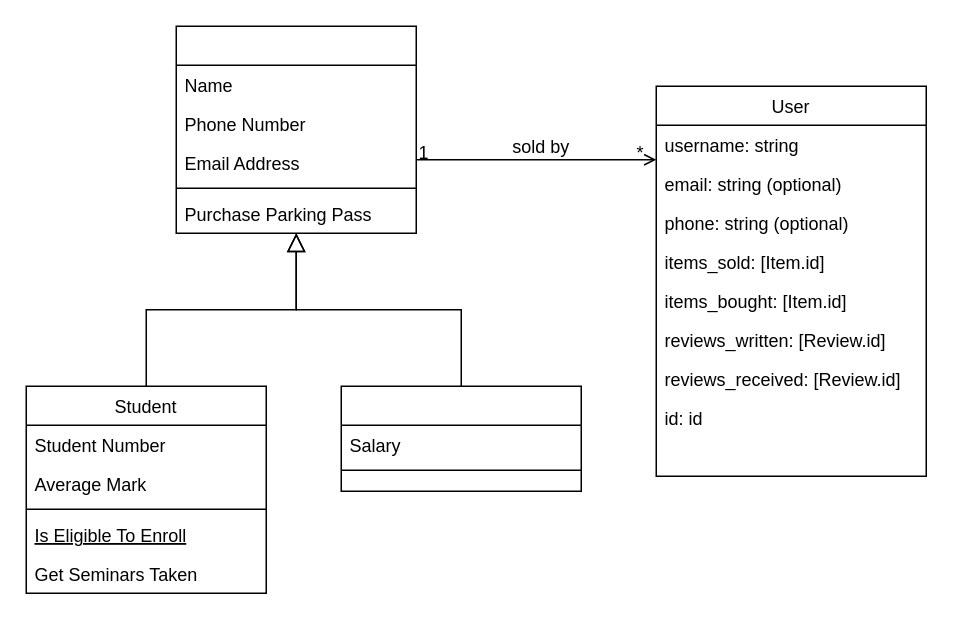
The diagram is 953 pixels wide and 624 high, and some of its shapes have lost their labels. The box of each missing label's shape, as (x1, y1, x2, y2) in pixels:
Person: (175, 25, 416, 233)
Professor: (340, 385, 581, 491)
